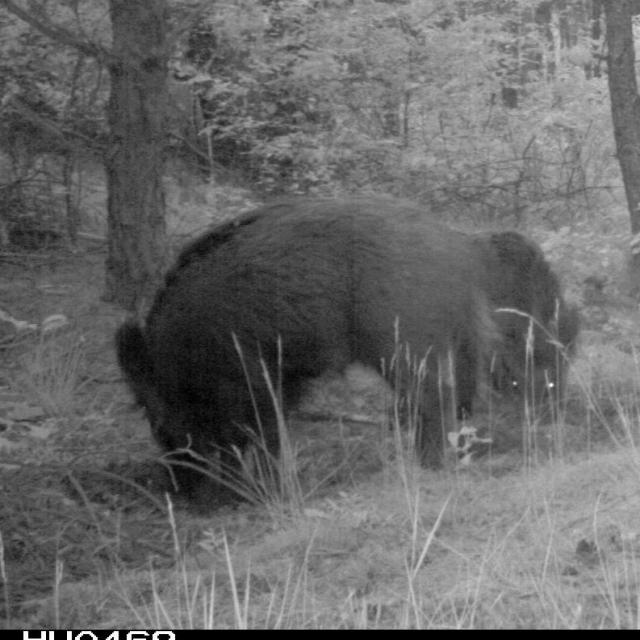pig: (81, 170, 634, 512)
